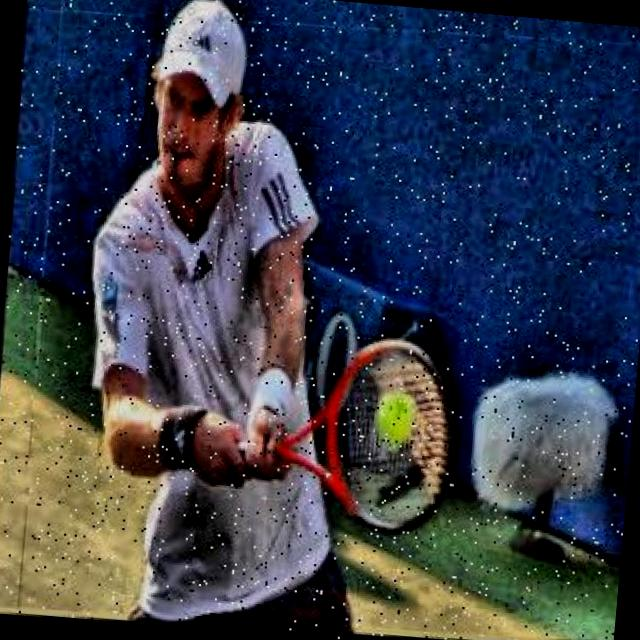Tennis Ball: (368, 397, 418, 458)
